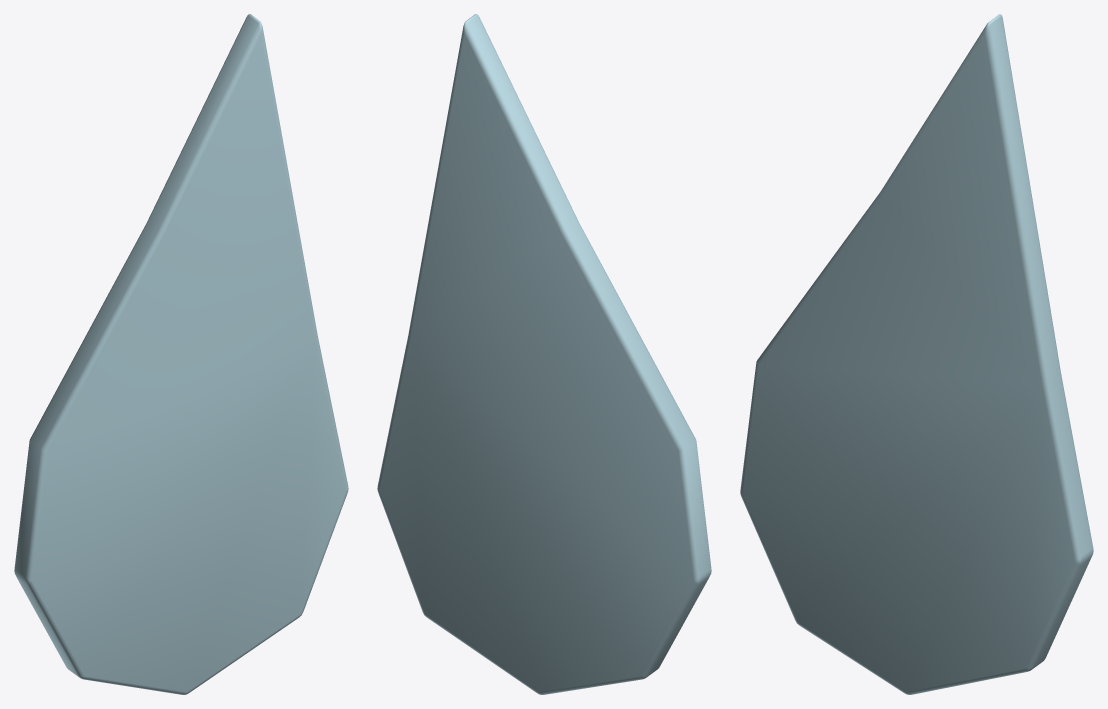
File: SweatDrop.fbx
3 views of the same model, side by side, from view 1: azimuth 30°, elevation 25°; view 2: azimuth 150°, elevation 25°; view 3: azimuth 330°, elevation 25° (orthographic). The views are drawn at different scales.
Parts seen in each view (by area): view 1: GraphicSweatDrop; view 2: GraphicSweatDrop; view 3: GraphicSweatDrop.
Part boxes in pixels (x1,y1,x2,y2): GraphicSweatDrop: (14, 14, 348, 694); GraphicSweatDrop: (377, 14, 711, 694); GraphicSweatDrop: (740, 14, 1093, 694).
Size of the model in its own units: 0.1434 by 0.2784 by 0.012.
